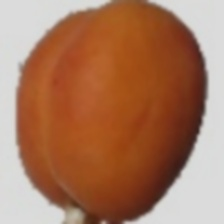apricot: (43, 26, 178, 175)
